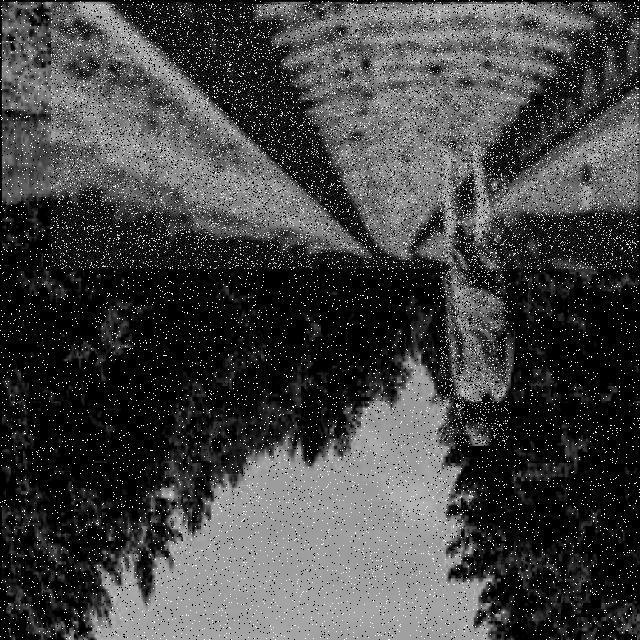rail: (53, 6, 639, 270)
